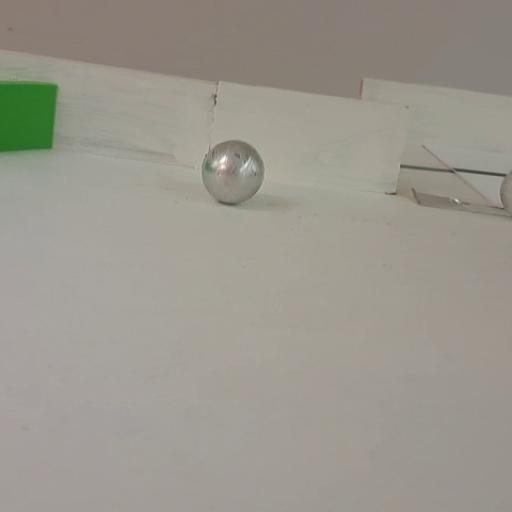alive: (200, 139, 264, 205), (499, 168, 512, 213)
